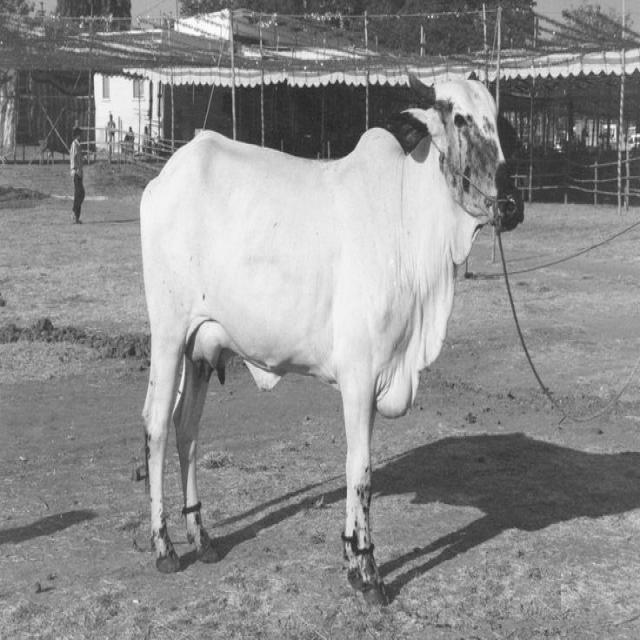Cow: (137, 71, 522, 608)
